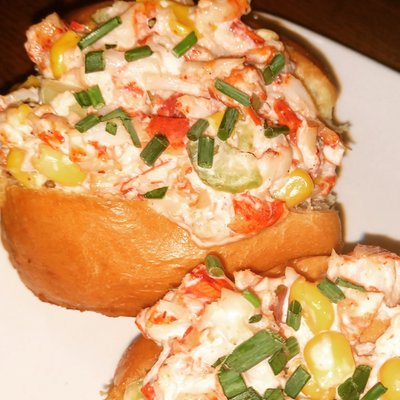sandwich: (0, 0, 360, 384)
